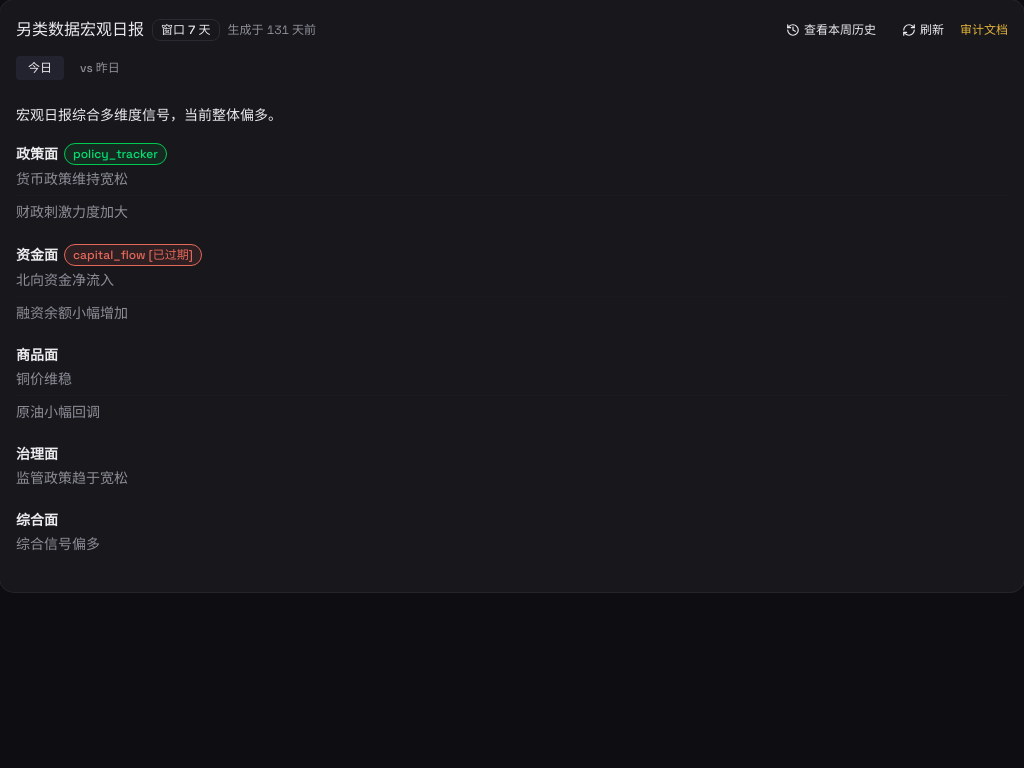
Test: MacroBriefingTile › switches to delta tab and loads delta on click
What coordinates should you click on to do the following:
click the tab with test id "macro-briefing-tab-delta"
I would click on:
 (100, 68)
Its box is [68,56,132,80].
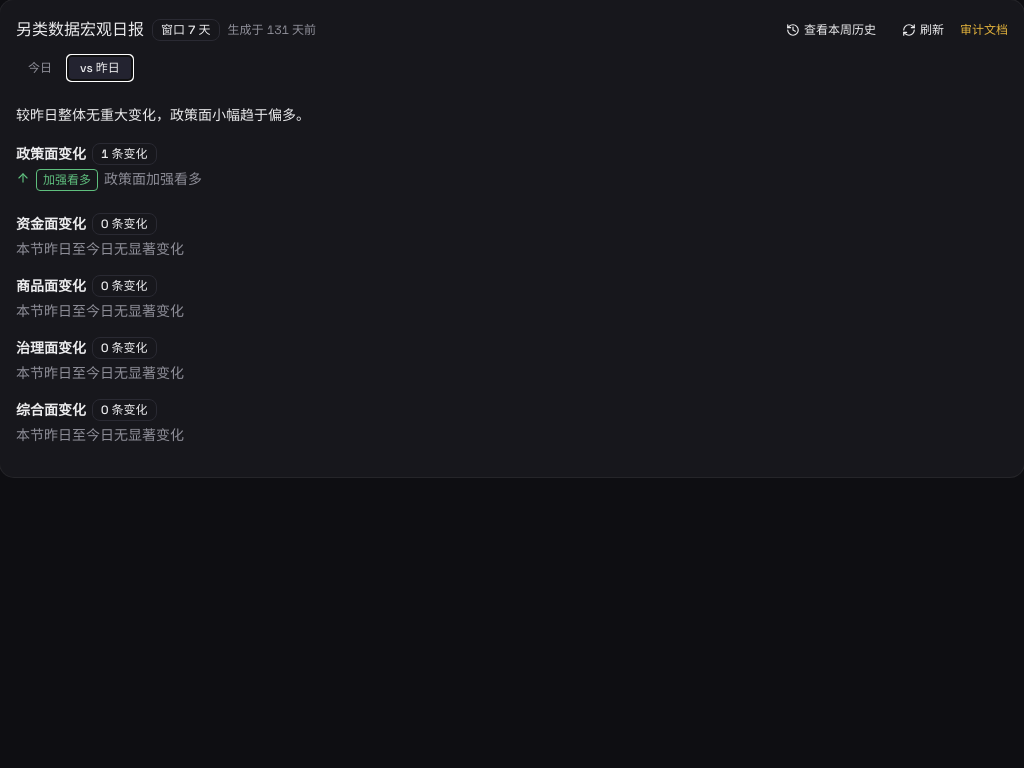
expect the text "较昨日整体无重大变化，政策面小幅趋于偏多。" is shown: met, box [16,106,310,124]
